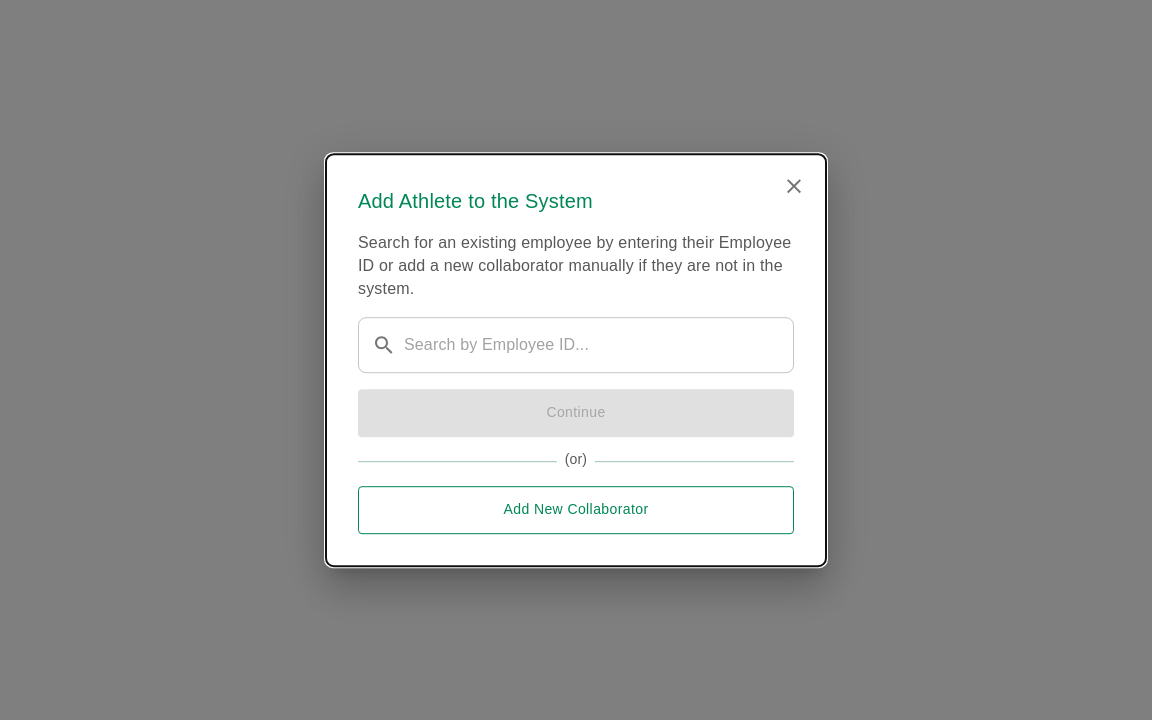
Scenario: UserCreation › shows error for duplicate entry
Type "DUPLICATE" into the field with placeholder "Search by Employee ID..." at (592, 345), box [404, 317, 780, 373]
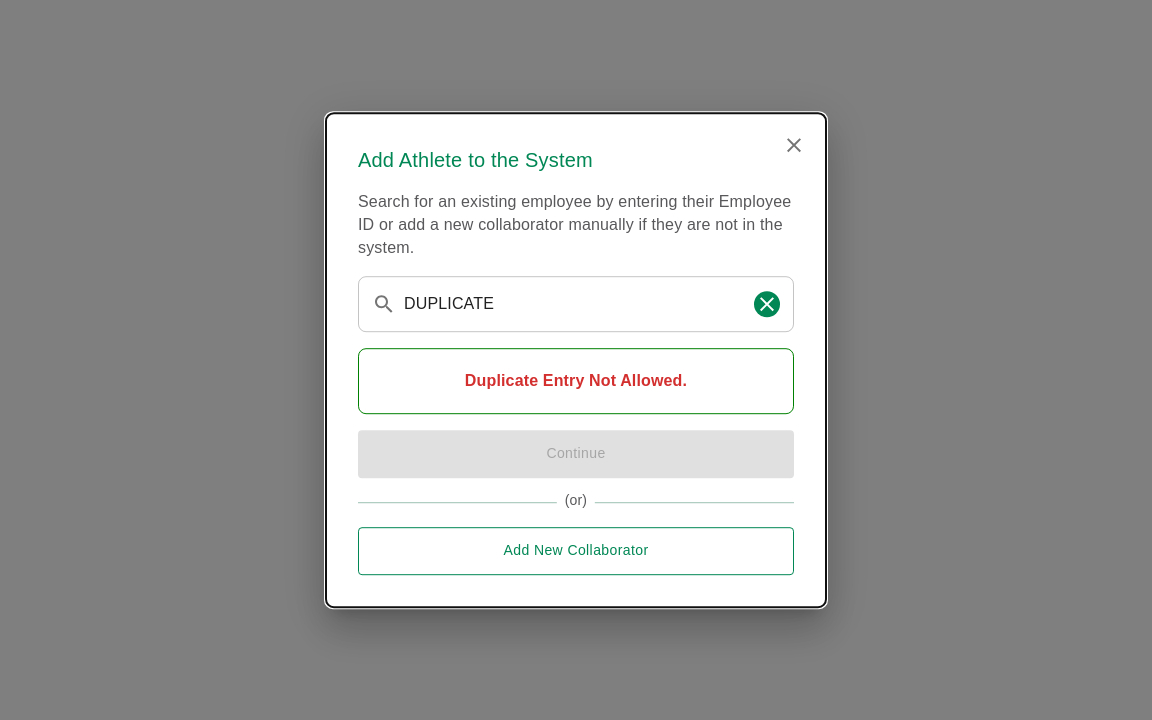
Expected: the text "Duplicate Entry Not Allowed." is shown, [465, 372, 687, 389]
